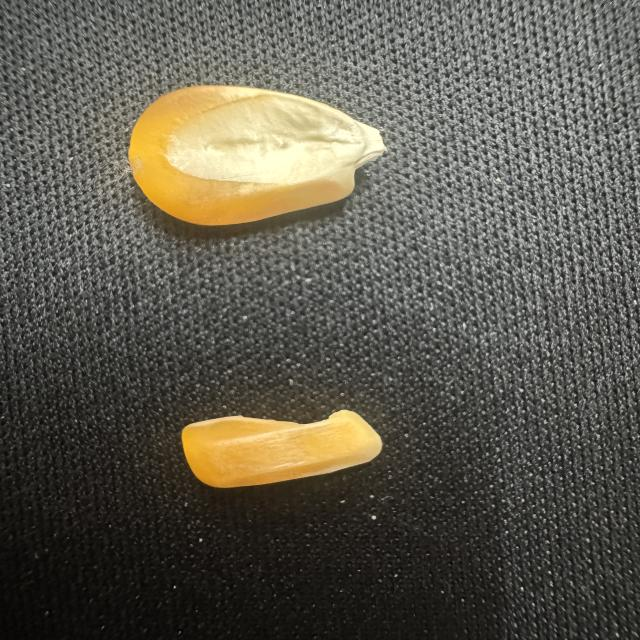Bad-Seed: (166, 400, 386, 494)
Good-Seed: (117, 75, 397, 238)
